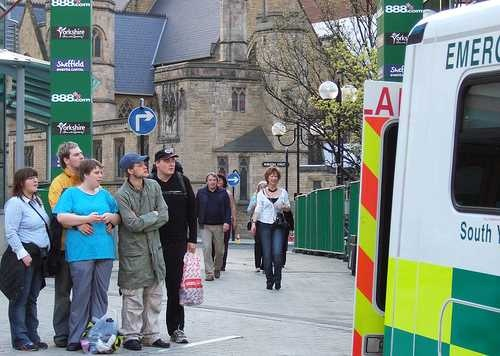Ambulance: (327, 15, 500, 356)
